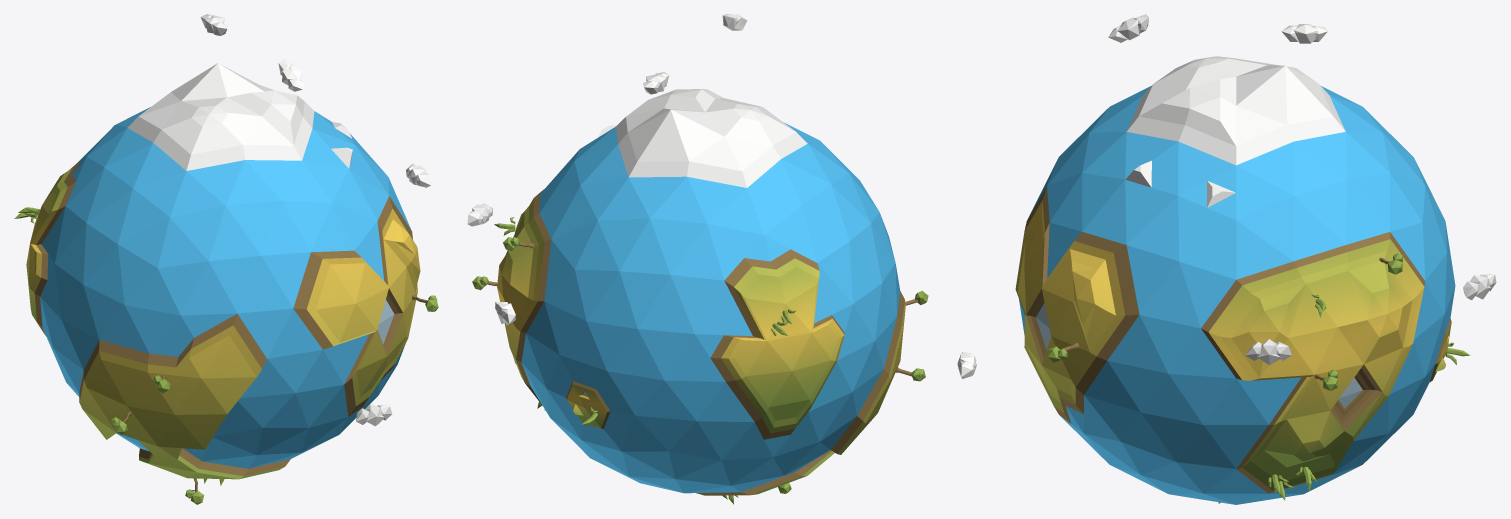
Rendered from Terra_Planet_01.FBX.
3 renders of one model, left to right at view 1: azimuth 30°, elevation 25°; view 2: azimuth 150°, elevation 25°; view 3: azimuth 270°, elevation 25°, orthographic. The views are drawn at different scales.
Visible parts, largest first — view 1: Terra_Planet; view 2: Terra_Planet; view 3: Terra_Planet.
Part boxes in pixels (<box>): Terra_Planet: <box>14,14,438,504</box>; Terra_Planet: <box>467,14,928,504</box>; Terra_Planet: <box>957,14,1496,504</box>.
Bounding box in the file's own units: 114 × 127 × 123.
